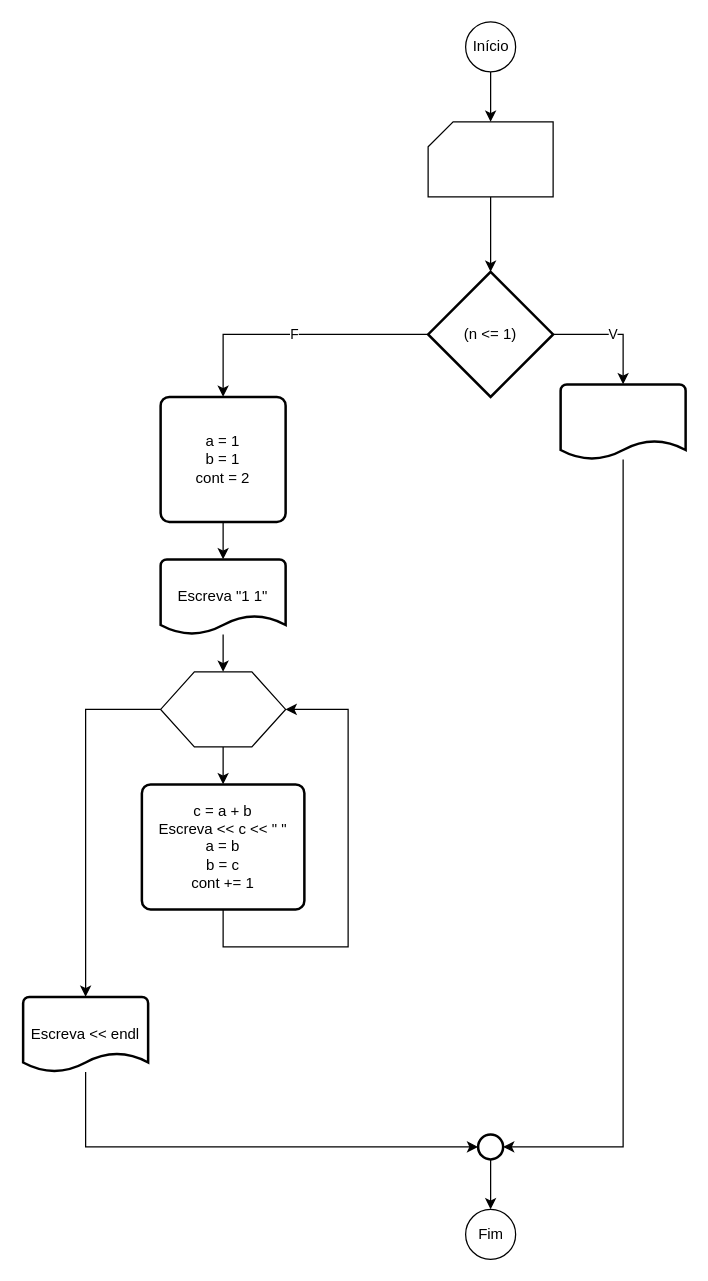
The diagram is 708 pixels wide and 1281 high, and some of its shapes have lost their labels. The shapes that lost their labels are listed below. From the top down, each one's centre as x and y in pixels, then its label:
point (490, 159): Leia n
point (622, 421): Escreva 'Número inválido!"
point (222, 709): Para cont < n
